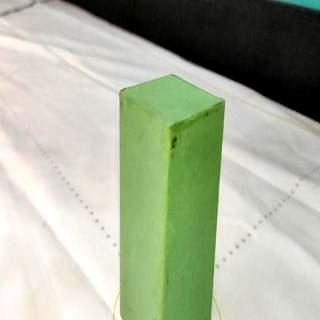greenbox: (118, 74, 226, 320)
